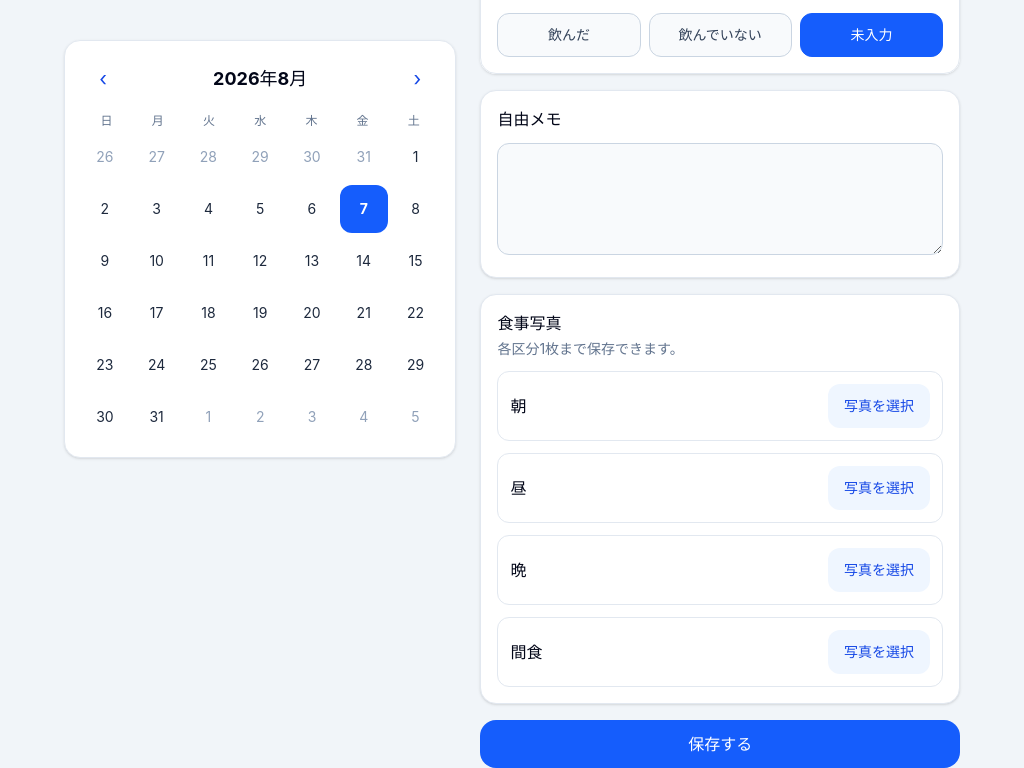
Test case: HomePage › 容量超過時にセンシティブ情報を含まない対処案を表示する
(page scrolled)
What coordinates should you click on to do the following:
click the button "保存する"
I would click on:
 (720, 744)
Its box is [480,720,960,767].
(page scrolled)
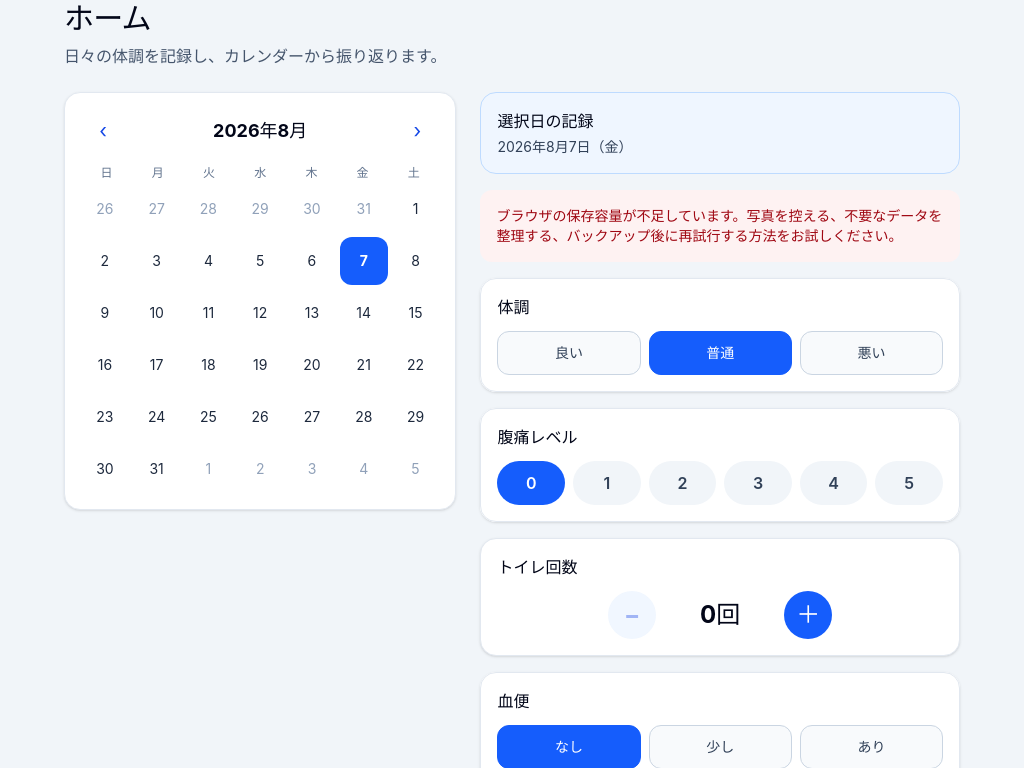
Expected: the message does not show "synthetic full", [480,190,960,262]
Result: the message shows "ブラウザの保存容量が不足しています。" at [496,207,942,244]
Result: the message shows "バックアップ後に再試行" at [496,207,942,244]
